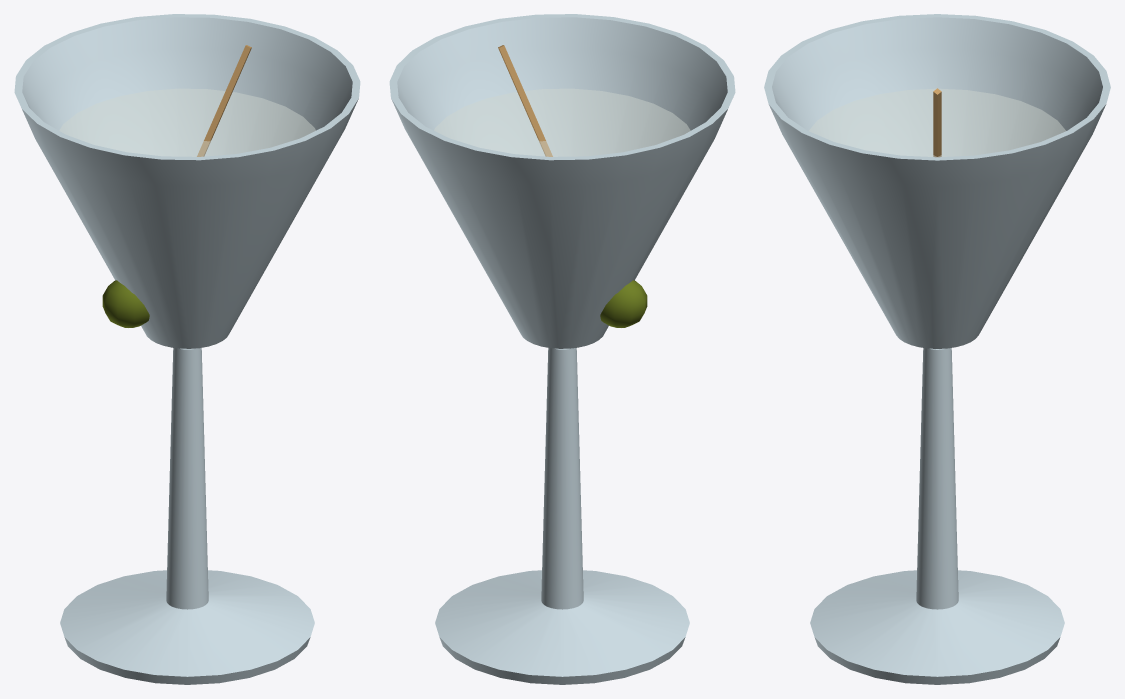
Rendered from cocktail_martini_olive.glb.
The picture shows the model from 3 angles, left to right: view 1: azimuth 30°, elevation 25°; view 2: azimuth 150°, elevation 25°; view 3: azimuth 270°, elevation 25°; orthographic projection.
Visible parts, largest first — view 1: cocktail_martini_olive; view 2: cocktail_martini_olive; view 3: cocktail_martini_olive.
Part boxes in pixels (box(x1,y1,x2,y2)): cocktail_martini_olive: box(14, 14, 360, 684); cocktail_martini_olive: box(389, 14, 735, 684); cocktail_martini_olive: box(764, 14, 1110, 684).
Bounding box in the file's own units: 0.098 × 0.1786 × 0.098.
